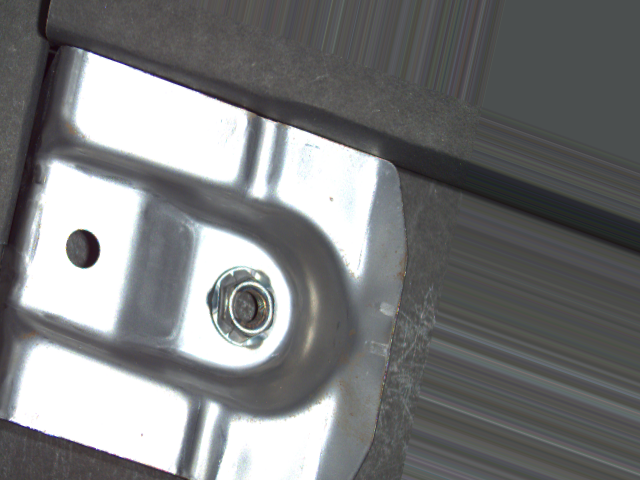good: (206, 262, 280, 353)
